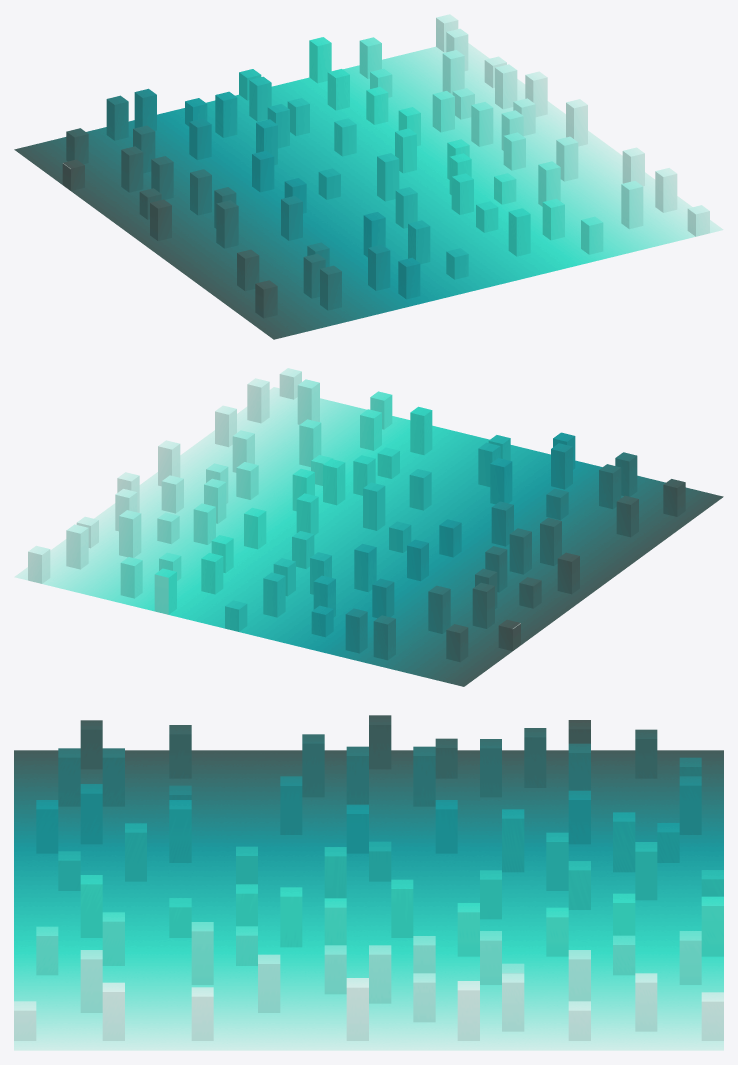
File: gradient-city.glb
3 views of the same model, one above another, from view 1: azimuth 30°, elevation 25°; view 2: azimuth 150°, elevation 25°; view 3: azimuth 270°, elevation 25° (orthographic). The views are drawn at different scales.
Visible parts, largest first — view 1: Plane; view 2: Plane; view 3: Plane.
Boxes of the visible parts, <box> form: Plane: <box>14,14,723,339</box>; Plane: <box>14,368,723,686</box>; Plane: <box>14,715,723,1050</box>.
Size of the model in its own units: 15.8 by 1.32 by 15.8.
Materials: 1 (1 with a texture image).
